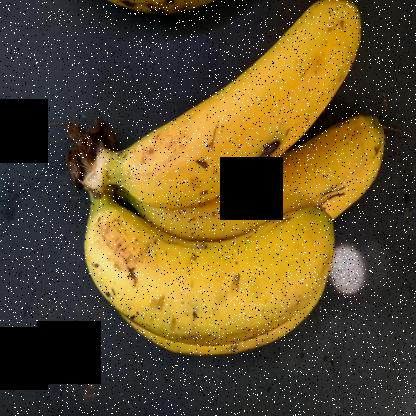ripe: (99, 15, 360, 196), (67, 212, 356, 362), (158, 114, 390, 258)
